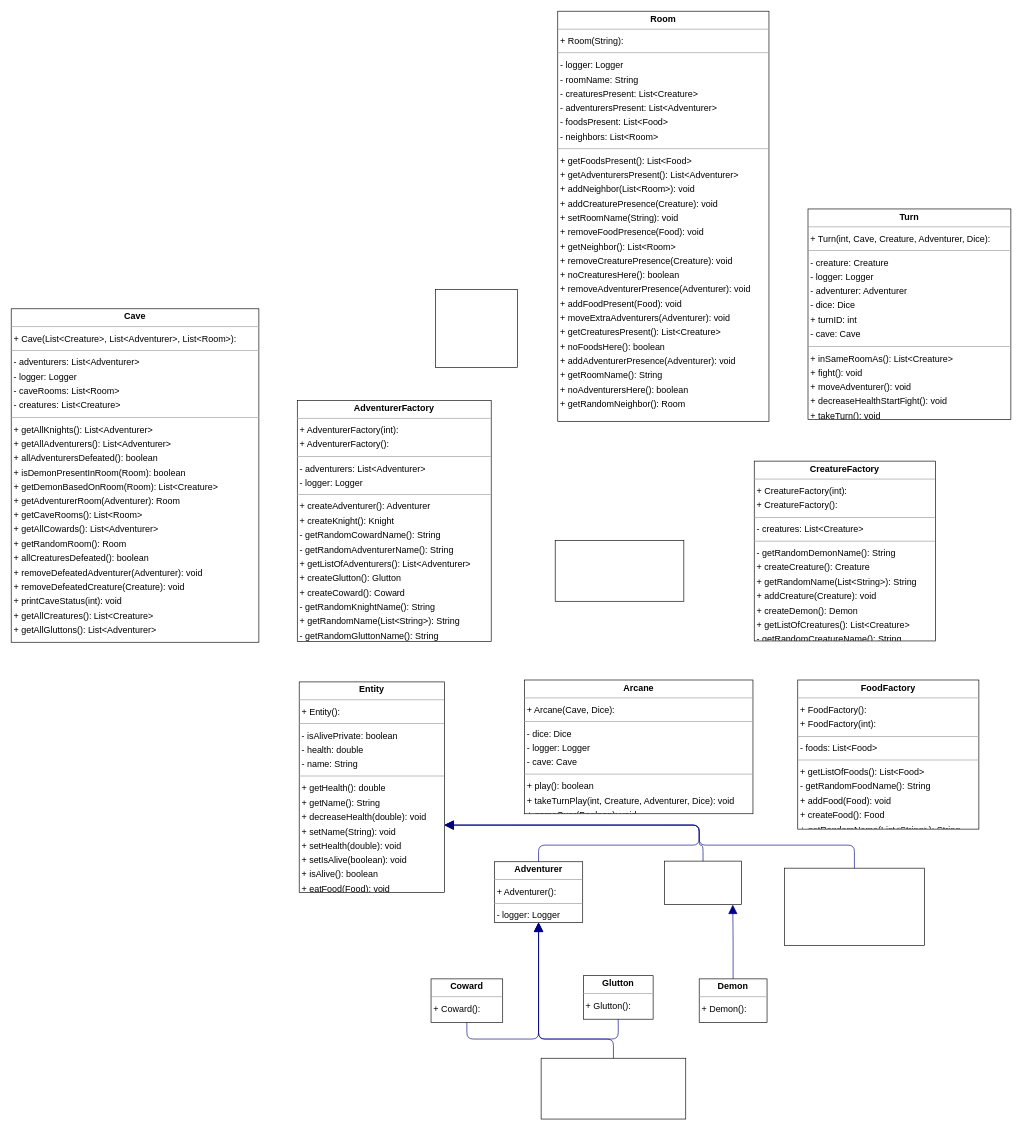
The diagram is 1022 pixels wide and 1130 high, and some of its shapes have lost their labels. Here are the shapes that lost their labels. From the top down, the centre of each, then its label:
At point (476, 328): "Dice + Dice(): - numSides: int + rollDie(): int".
At point (619, 570): "GameConfiguration + GameConfiguration(): + main(String[]): void".
At point (702, 882): "Creature + Creature():".
At point (854, 907): "Food + Food(): - logger: Logger - lstFoodNames: List<String>".
At point (613, 1088): "Knight + Knight(): - lstKnightNames: List<String>".
